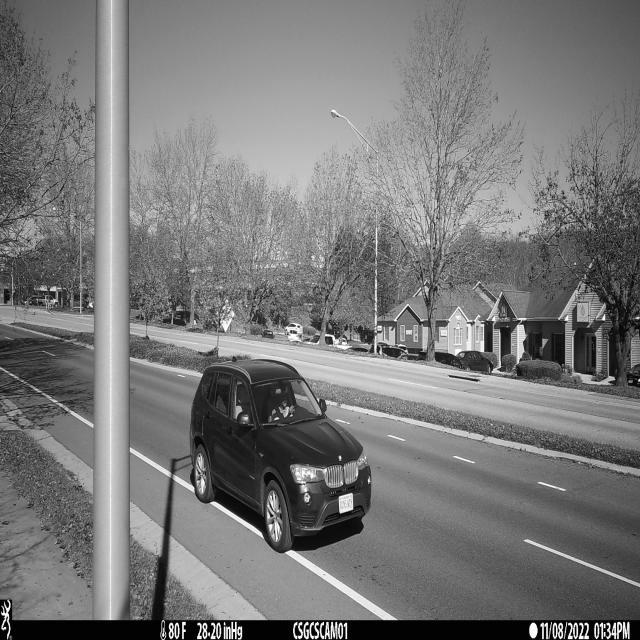SUV: (189, 355, 373, 554)
